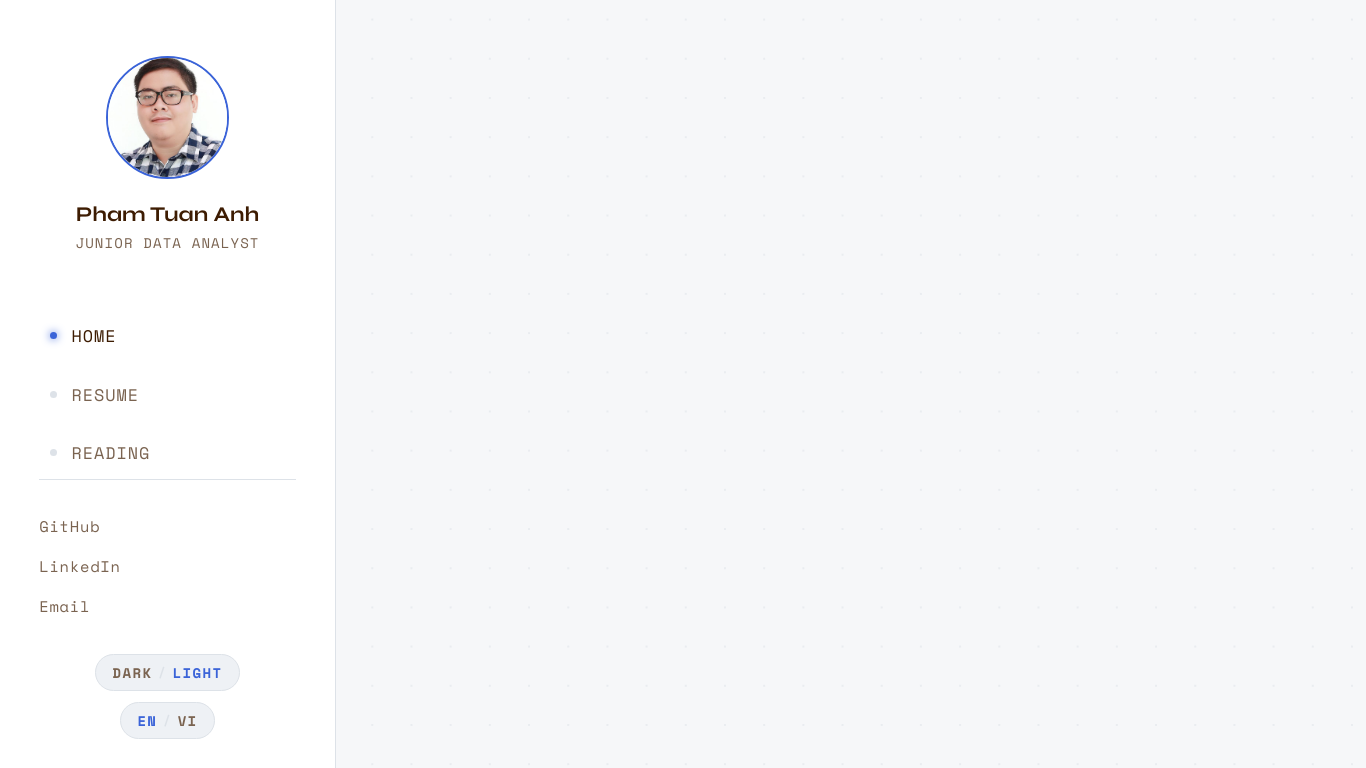
Sidebar › locale toggle › re-renders nav labels in Vietnamese after switching locale
The image size is (1366, 768).
Click the button titled "Chuyển sang Tiếng Việt".
click(168, 721)  # box [120,702,215,739]
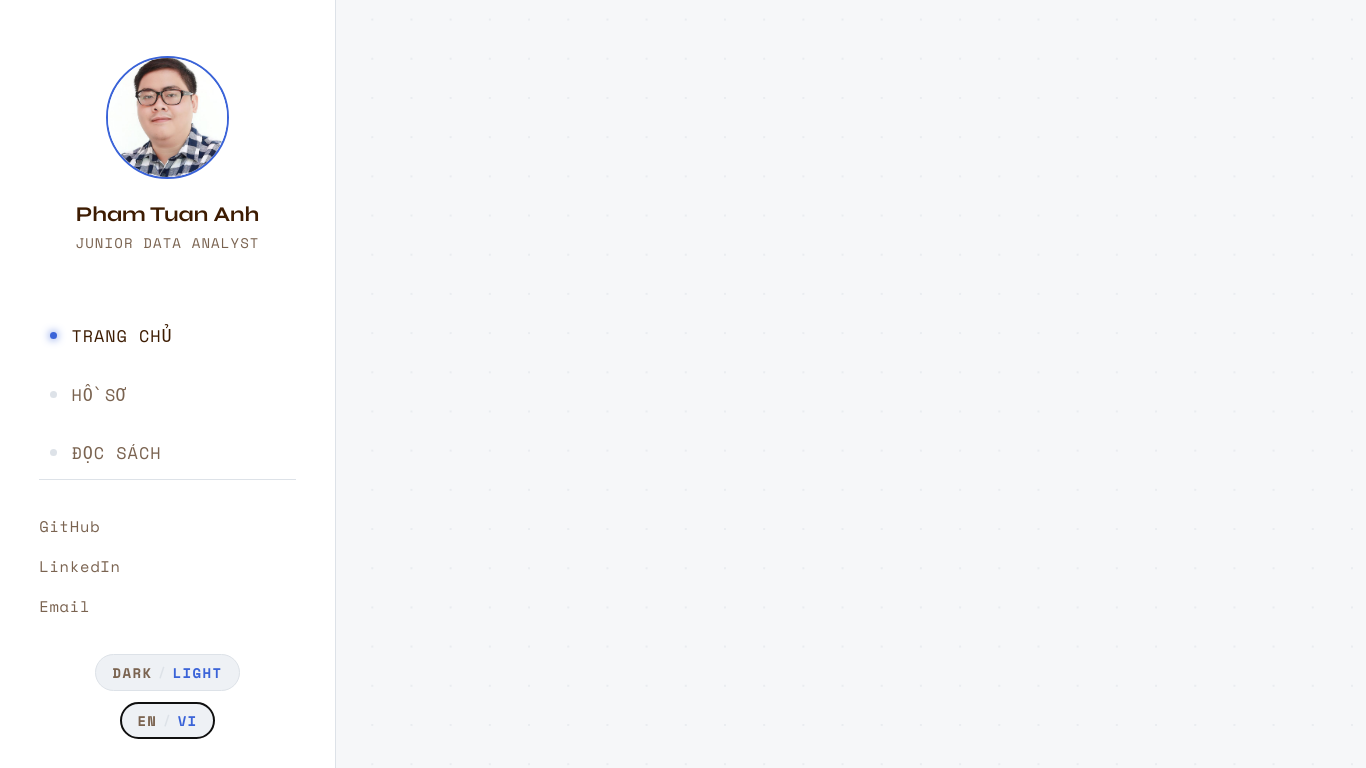
expect the button "Hồ Sơ" is shown: met, box [39,368,296,421]
